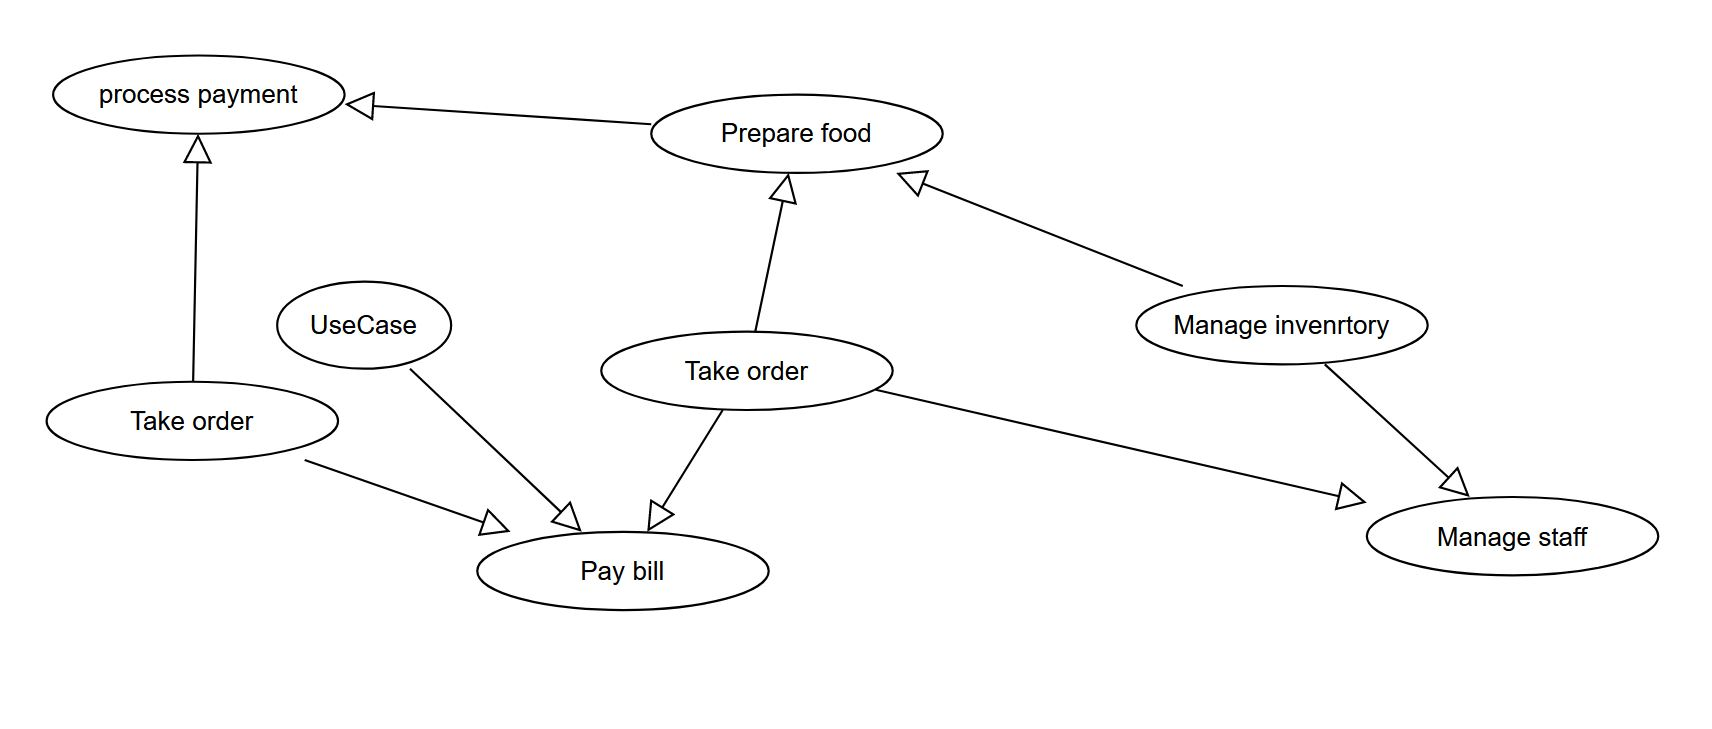generalization: (876, 389, 1365, 510), (893, 166, 1182, 285), (408, 369, 582, 533), (1324, 363, 1470, 495), (300, 456, 512, 537), (344, 89, 650, 132), (647, 406, 725, 533), (183, 133, 213, 382), (753, 174, 796, 328)
text: (1168, 306, 1389, 344), (93, 79, 302, 113), (716, 117, 876, 151), (663, 358, 813, 390), (1432, 522, 1591, 551), (307, 304, 421, 345), (124, 403, 257, 432), (574, 554, 669, 588)
use_case: (50, 55, 347, 138), (1136, 283, 1432, 366), (601, 330, 896, 413), (45, 380, 338, 461), (650, 94, 942, 174), (475, 531, 770, 610), (1364, 495, 1660, 573), (278, 282, 452, 372)
